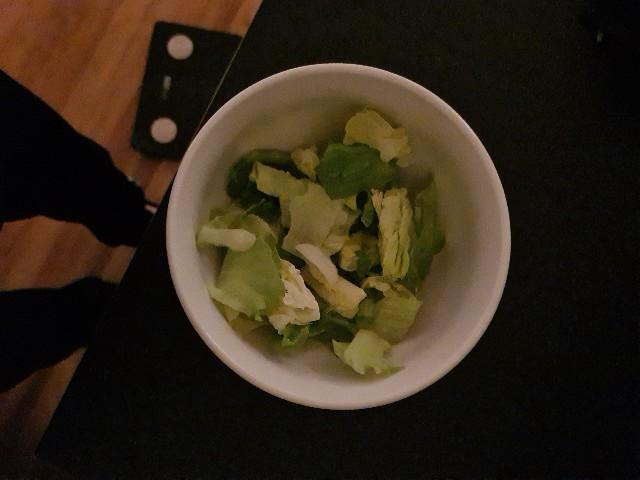kichen waste: (197, 110, 445, 376)
